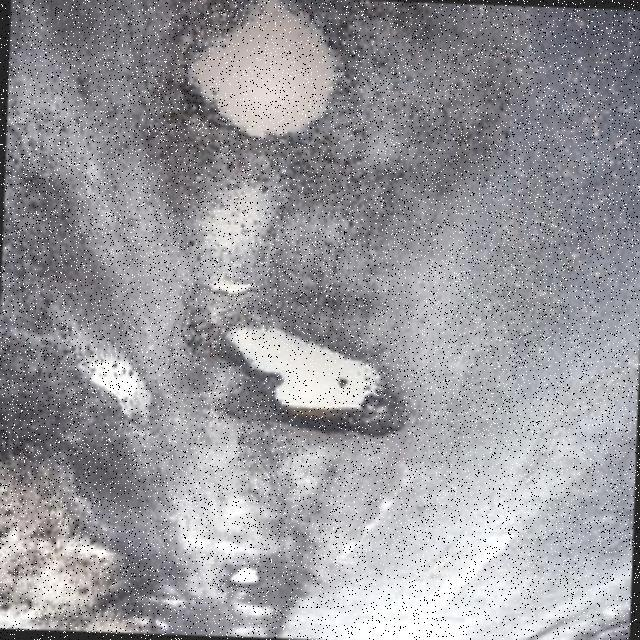Pothole: (186, 0, 336, 136), (220, 326, 403, 435)
